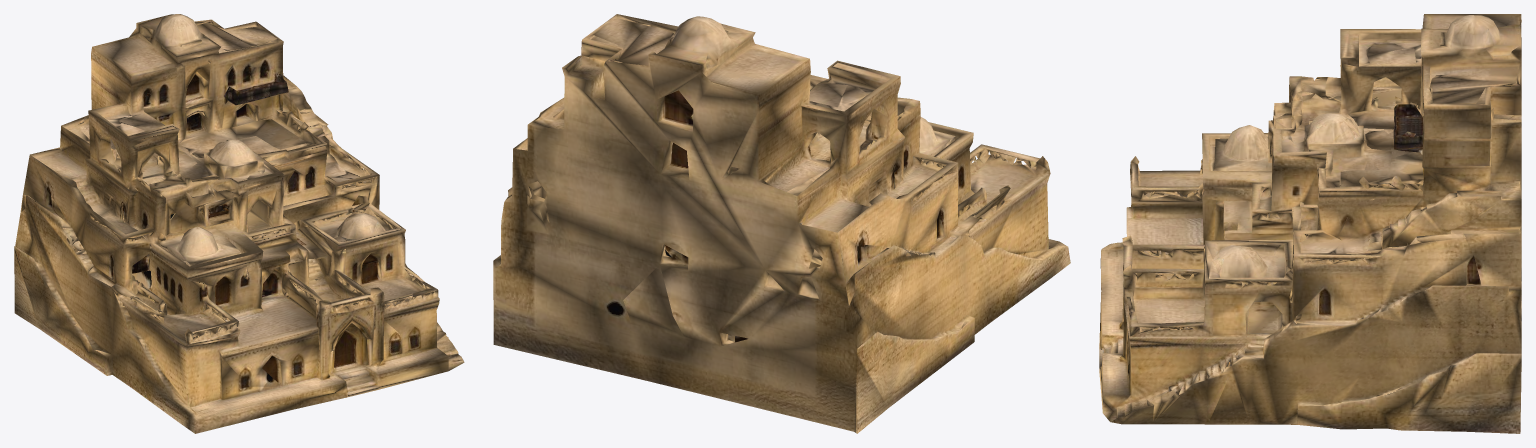
The model's file is city_mardin_terrace_houses.glb.
3 views of the same model, side by side, from view 1: azimuth 30°, elevation 25°; view 2: azimuth 150°, elevation 25°; view 3: azimuth 270°, elevation 25° (orthographic). The views are drawn at different scales.
Visible parts, largest first — view 1: Mesh1.0; view 2: Mesh1.0; view 3: Mesh1.0.
Part boxes in pixels (<box>): Mesh1.0: <box>14,14,464,433</box>; Mesh1.0: <box>493,14,1070,433</box>; Mesh1.0: <box>1099,14,1521,433</box>.
Bounding box in the file's own units: 15.17 × 14 × 16.11.
1 material, 1 textured.
